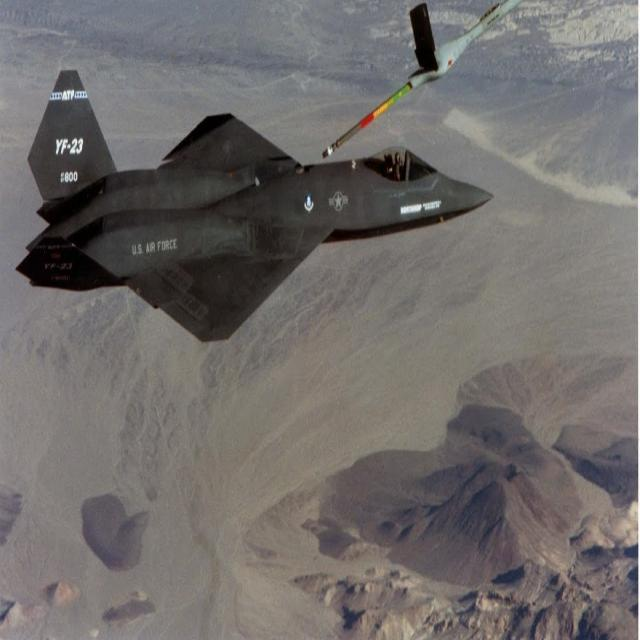MIL_Plane: (15, 69, 494, 342)
